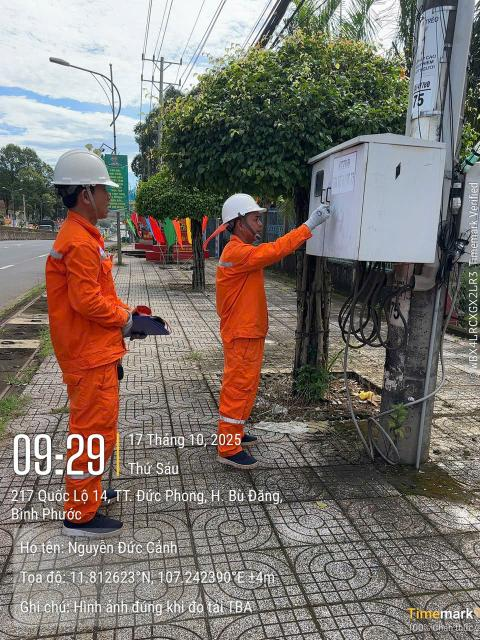gloves: (122, 306, 168, 338), (301, 202, 340, 234)
helmet: (49, 139, 122, 193), (219, 188, 254, 229)
shoes: (61, 507, 126, 546), (216, 443, 263, 475), (91, 480, 122, 506), (233, 430, 261, 446)
